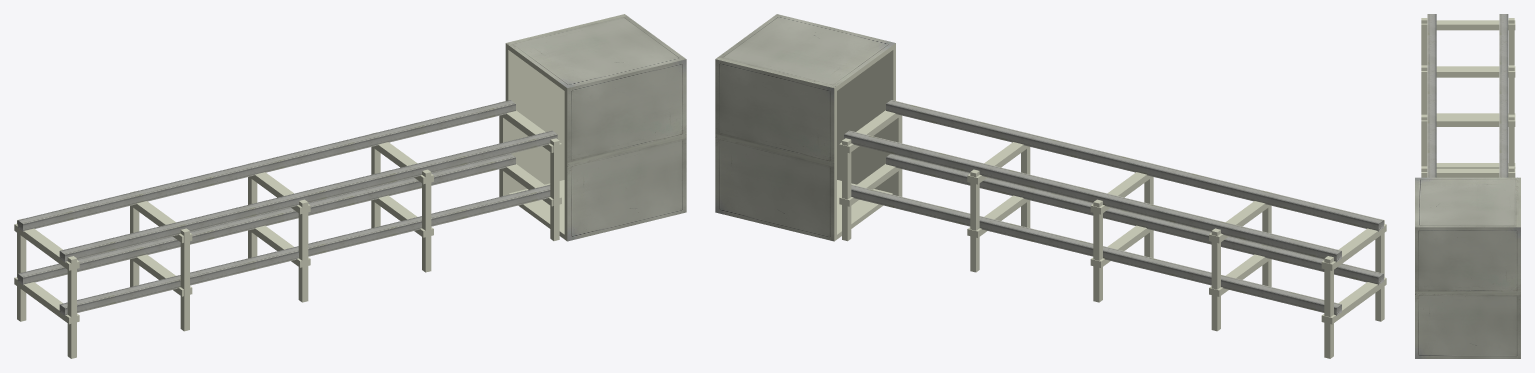
The model's file is 组装线_B1_线头设备2.fbx.
3 views of the same model, side by side, from view 1: azimuth 30°, elevation 25°; view 2: azimuth 150°, elevation 25°; view 3: azimuth 270°, elevation 25° (orthographic). The views are drawn at different scales.
Parts seen in each view (by area): view 1: Line003; view 2: Line003; view 3: Line003.
Boxes of the visible parts, x1,y1,x2,y2 form: Line003: (14, 14, 686, 358); Line003: (715, 14, 1386, 358); Line003: (1415, 14, 1520, 358).
Bounding box in the file's own units: 127 × 30.37 × 22.16.
Materials: 4 (4 with a texture image).
